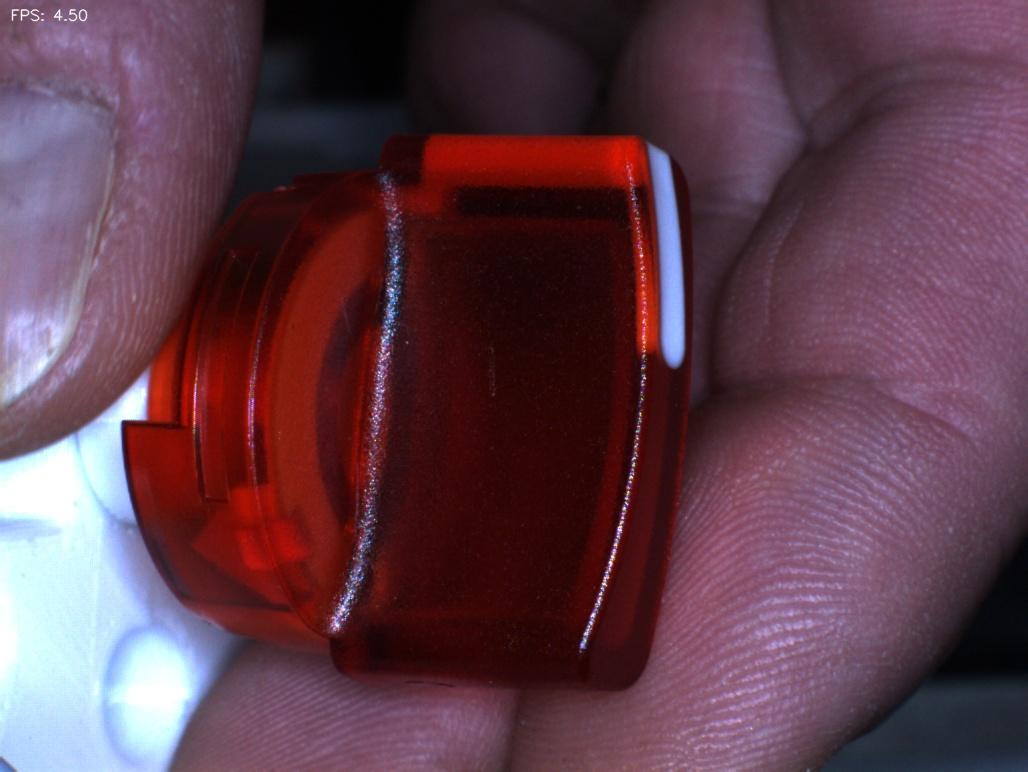Givrage: (452, 274, 528, 418)
